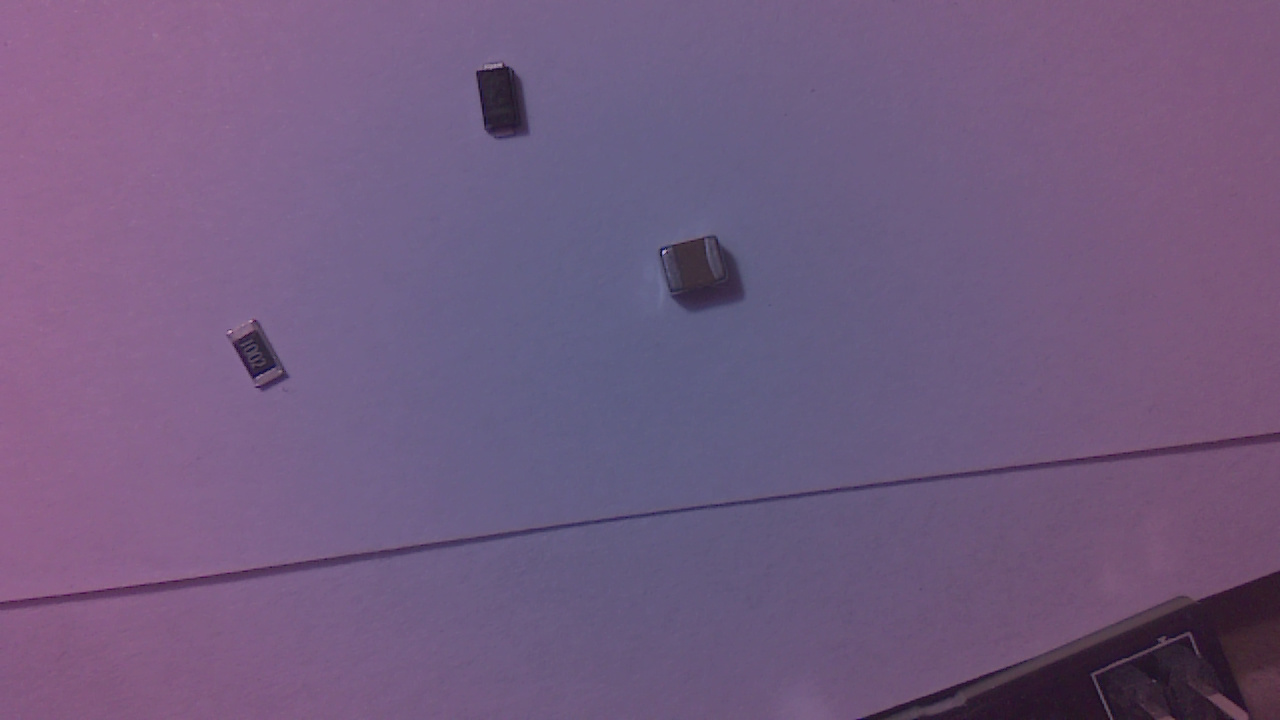Condensator: (665, 242, 736, 304)
Diode: (477, 67, 536, 146)
Resistor: (227, 322, 299, 398)
